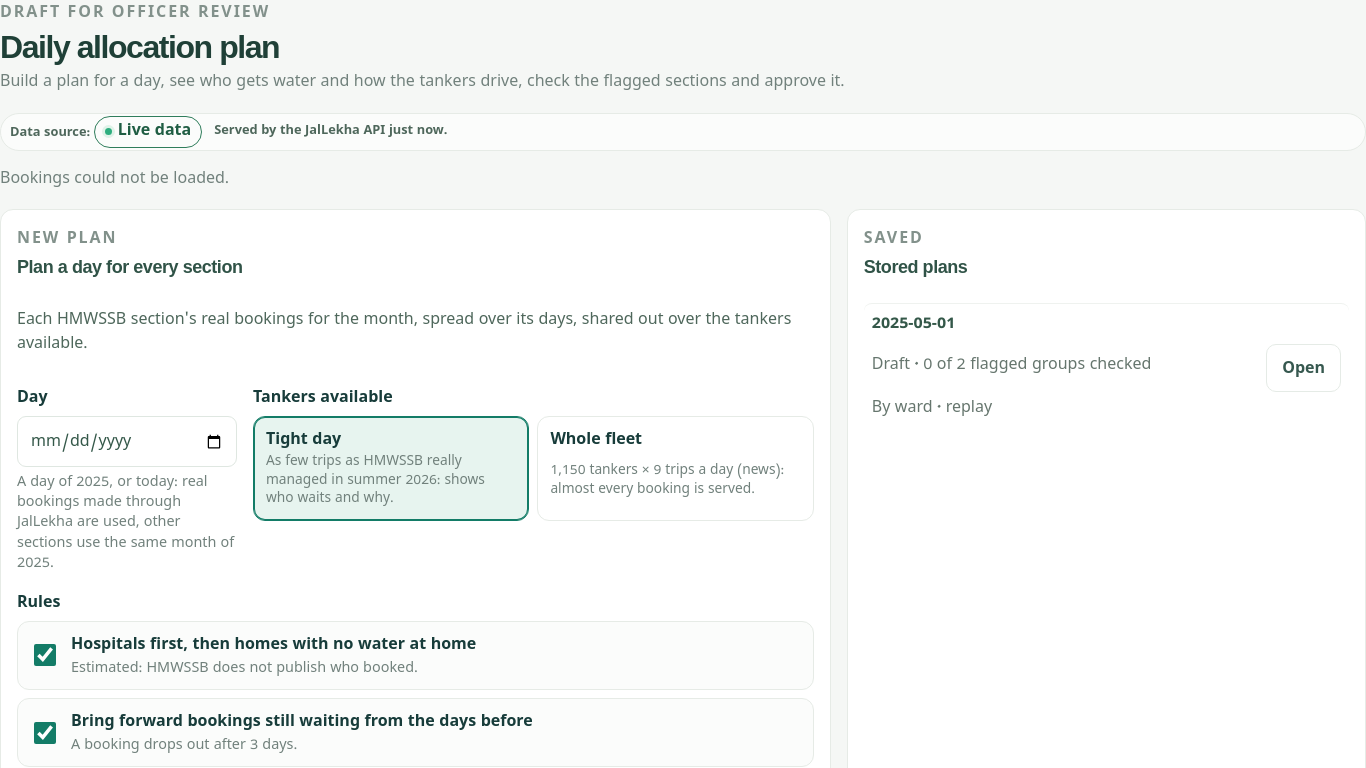
Test: PlanExperience (live API) › lists stored plans, opens one and shows queue, schedule, outage and confidence
Expected: the text "Live data" is shown, [94, 116, 202, 148]
Expected: the text "Served by the JalLekha API just now." is shown, [214, 122, 447, 141]
Click the button with aria-label "Open plan 2025-05-01" at (1304, 368), box [1266, 344, 1341, 392]
(page scrolled)
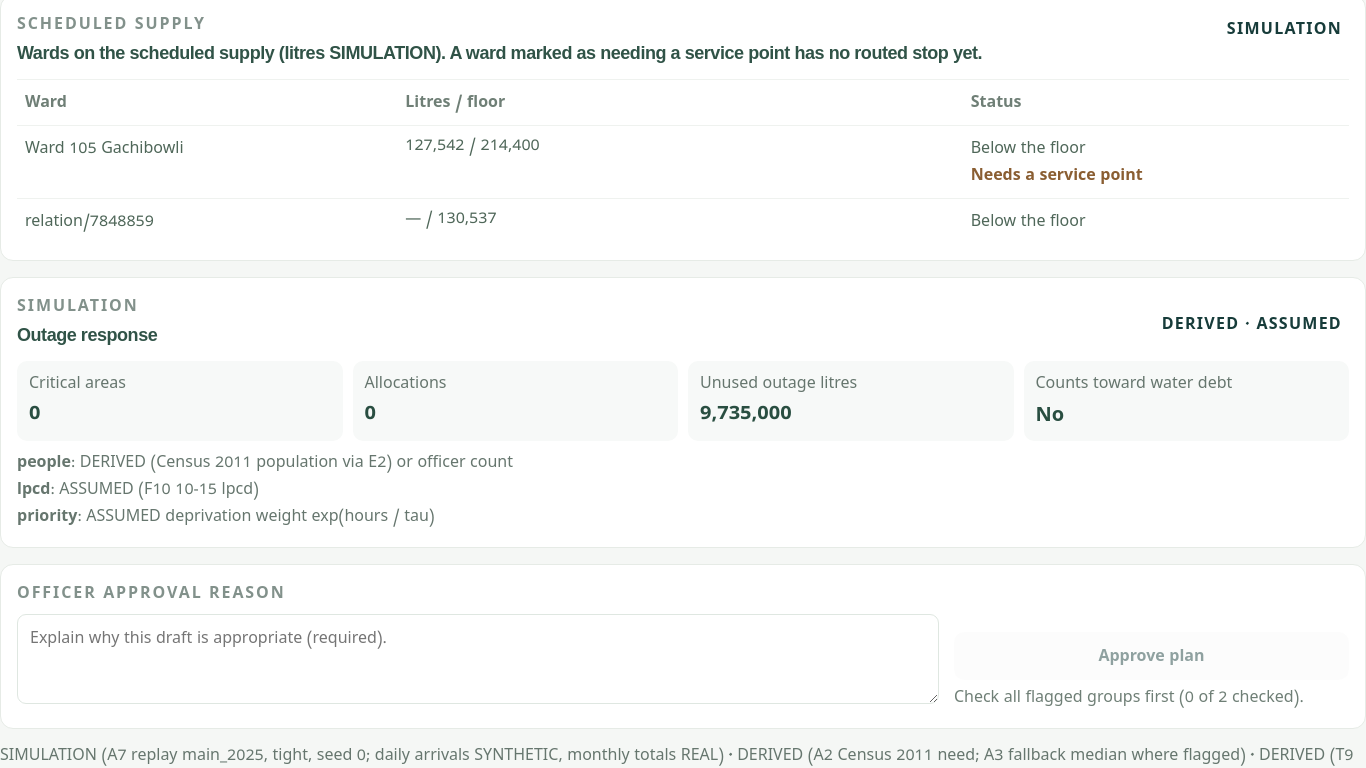
Expected: the text "relation/7848859" shows "—", [405, 209, 421, 231]
Expected: the text "Needs a service point" is shown, [971, 166, 1143, 188]
Expected: the text "Unused outage litres" is shown, [700, 374, 857, 396]
